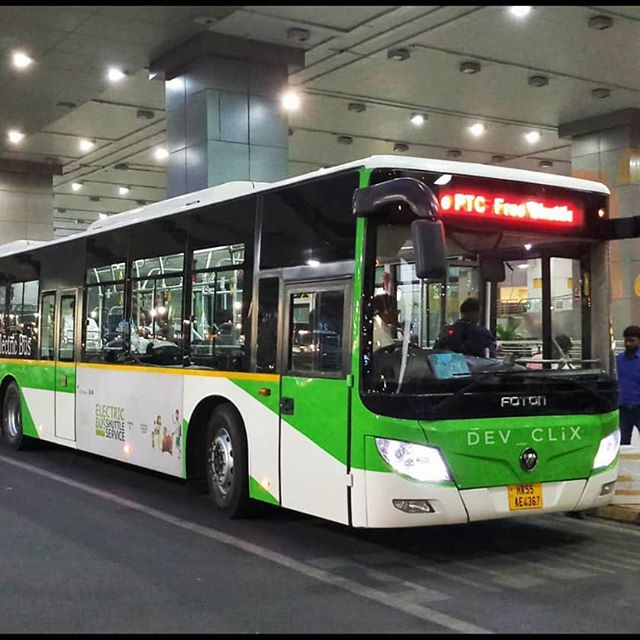bus: (10, 153, 622, 536)
